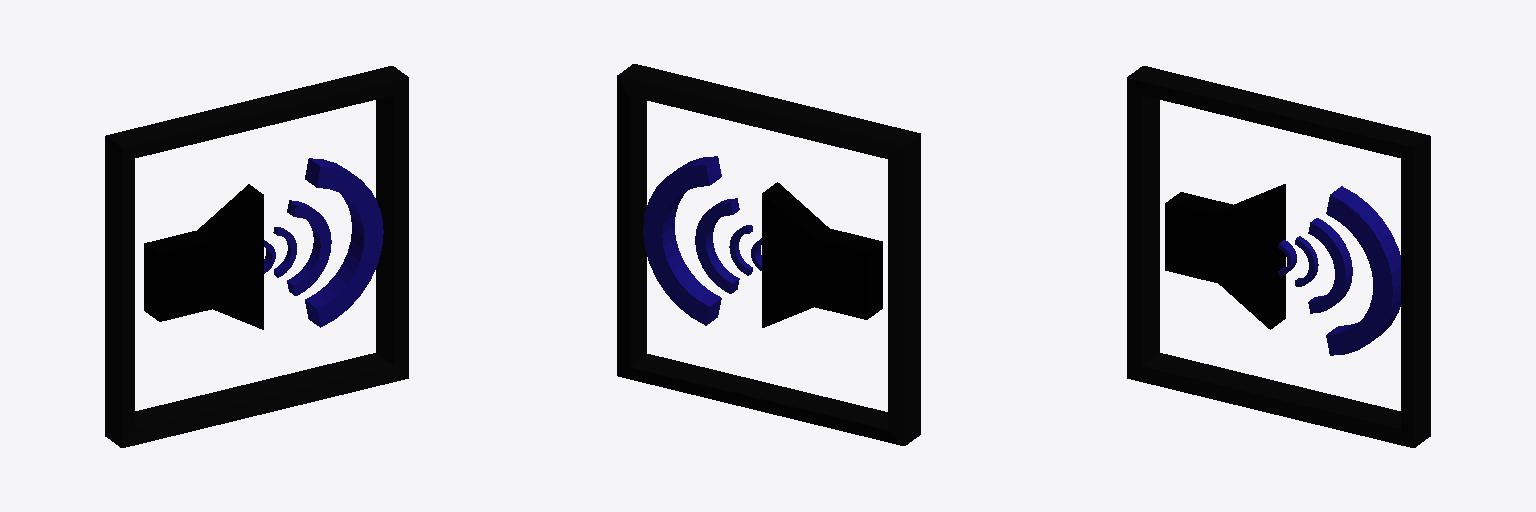
Rendered from Audio.obj.
3 renders of one model, left to right at view 1: azimuth 30°, elevation 25°; view 2: azimuth 150°, elevation 25°; view 3: azimuth 330°, elevation 25°, orthographic.
Visible parts, largest first — view 1: Frame, Speaker, Wave4, Wave3, Wave2; view 2: Frame, Speaker, Wave4, Wave3, Wave2; view 3: Frame, Speaker, Wave4, Wave3, Wave2.
Boxes of the visible parts, x1,y1,x2,y2 form: Frame: [105, 66, 408, 447]; Speaker: [144, 184, 263, 329]; Wave4: [305, 158, 383, 327]; Wave3: [287, 200, 331, 295]; Wave2: [273, 227, 296, 277]; Frame: [617, 64, 920, 445]; Speaker: [762, 182, 882, 327]; Wave4: [643, 156, 721, 325]; Wave3: [695, 198, 739, 293]; Wave2: [729, 225, 752, 275]; Frame: [1127, 66, 1430, 447]; Speaker: [1165, 184, 1285, 329]; Wave4: [1326, 186, 1400, 355]; Wave3: [1308, 218, 1352, 313]; Wave2: [1295, 236, 1318, 286].
Bounding box in the file's own units: 2 × 2 × 0.233.